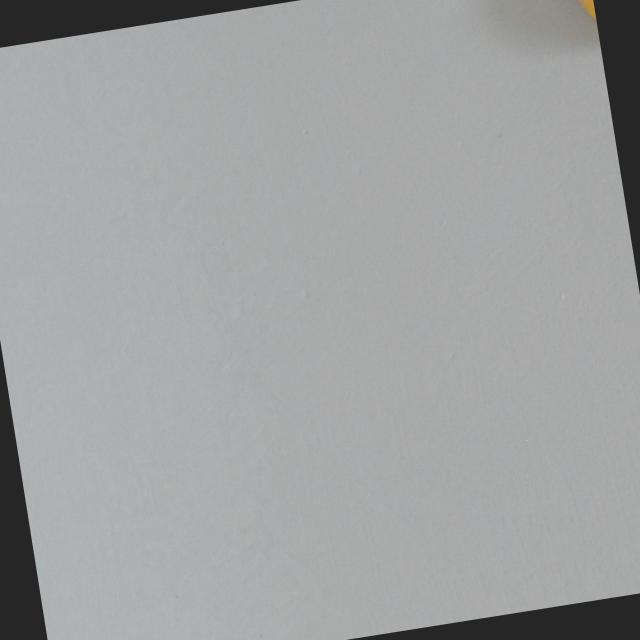entero: (573, 0, 602, 55)
